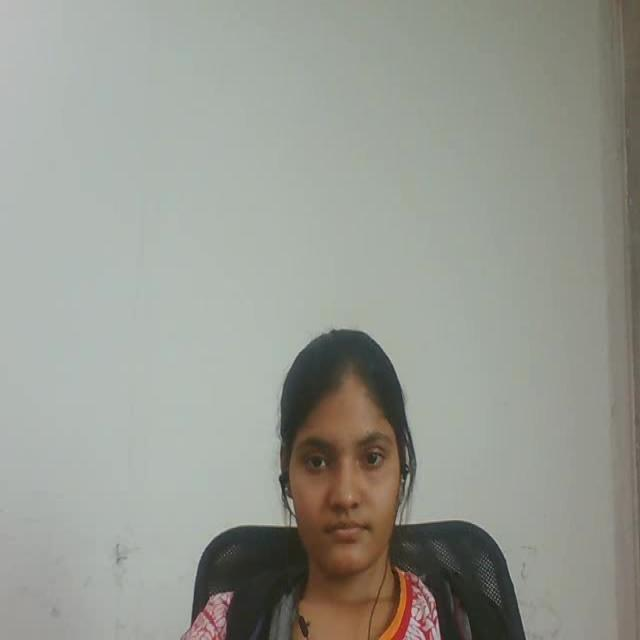Engaged: (254, 290, 440, 600)
